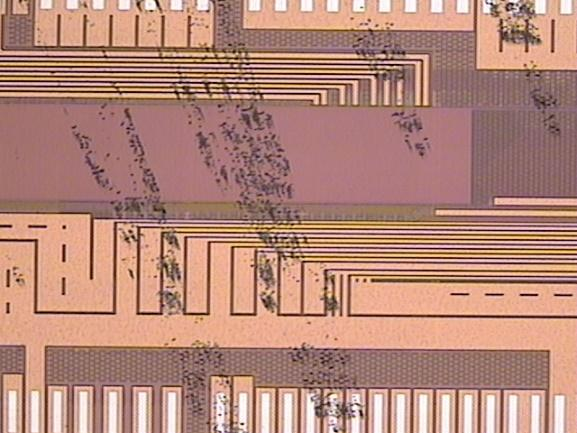SCRATCH: (1, 1, 564, 433)
